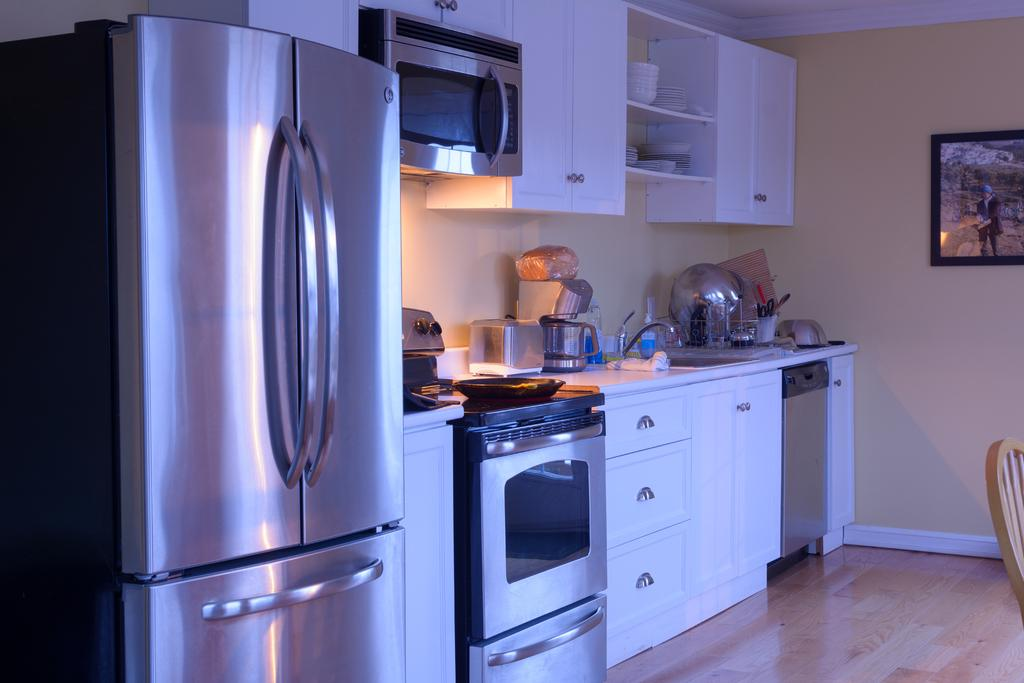cabinet_door: (512, 10, 574, 204), (572, 3, 626, 214), (694, 386, 740, 577), (598, 444, 688, 533), (742, 381, 786, 551), (717, 42, 756, 222), (758, 51, 796, 225), (610, 535, 690, 608), (601, 393, 689, 439), (833, 358, 856, 519), (448, 2, 514, 37)
handle: (266, 126, 320, 488), (305, 123, 343, 500), (200, 557, 387, 630), (492, 608, 601, 669), (492, 63, 508, 164), (632, 407, 662, 432), (632, 476, 658, 502), (632, 567, 658, 592), (574, 163, 590, 189), (739, 394, 756, 418), (732, 394, 746, 419), (756, 184, 770, 208), (826, 374, 844, 392), (564, 165, 578, 188), (752, 184, 762, 208)
